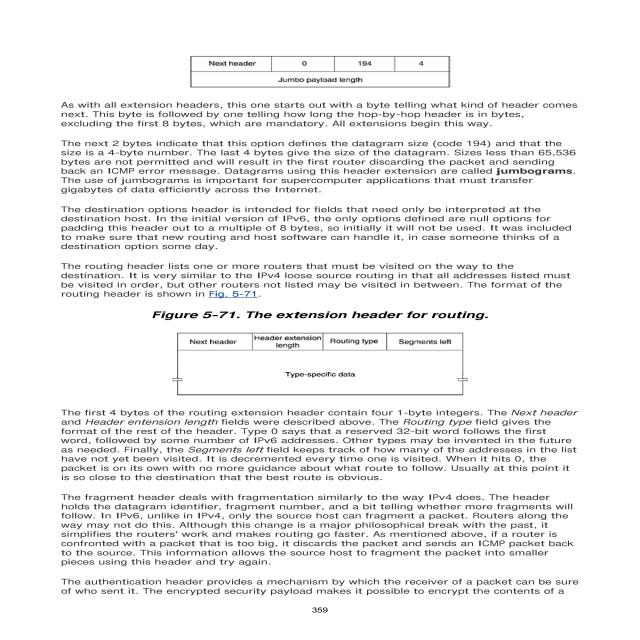diagram: (116, 301, 521, 408)
